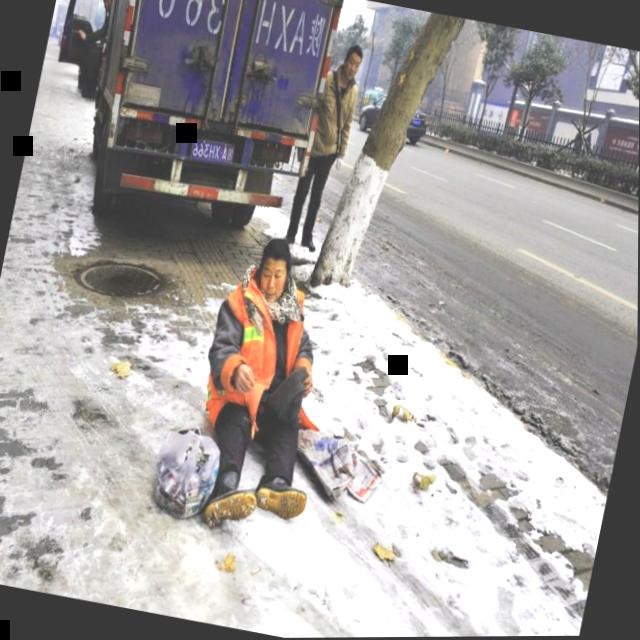Fall-Detected: (164, 205, 364, 561)
